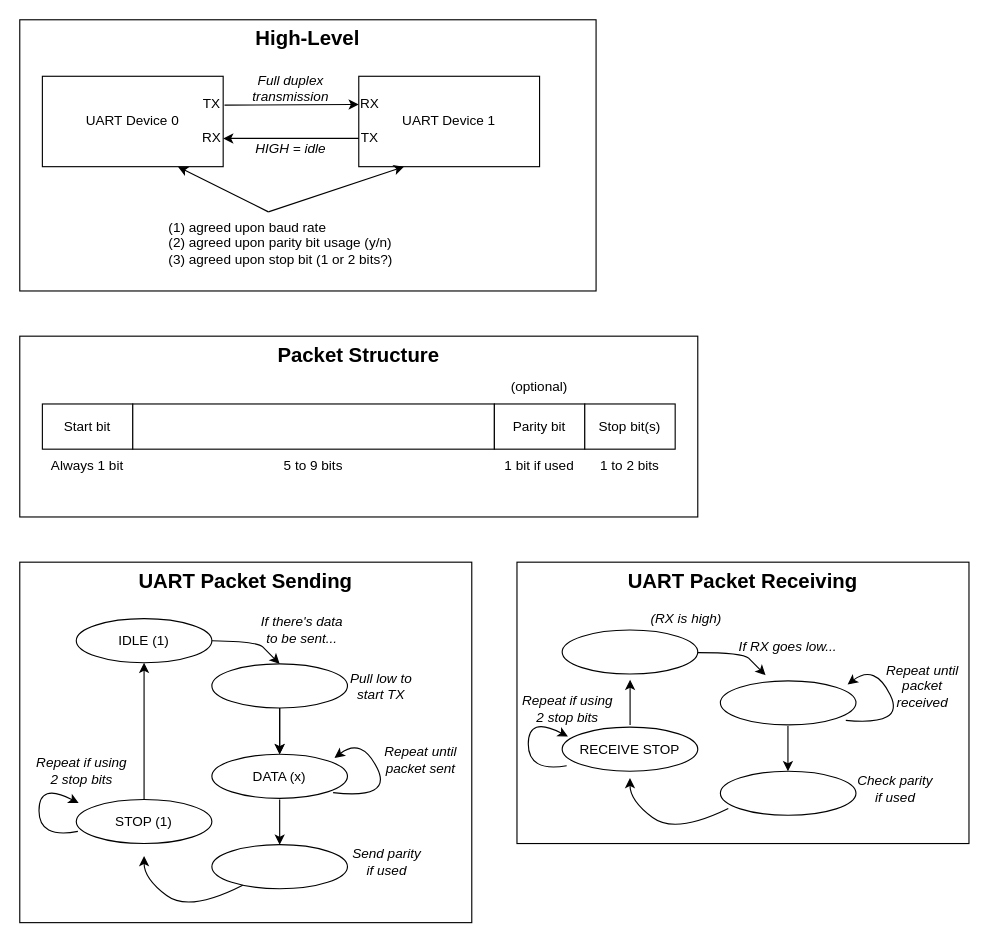
Image size: 989x942. Some labels were removed from this diagram. The centre of each missing label's shape, as x and y in pixels:
CHECK PARITY: the point at 787,792
Data bits: the point at 313,426
IDLE: the point at 629,651
PARITY (x): the point at 279,866
RECEIVE DATA: the point at 787,702
START (0): the point at 279,685
